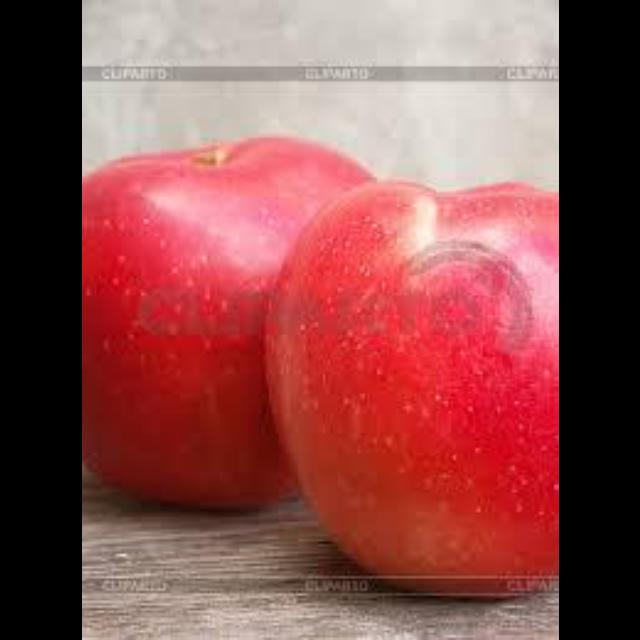apple: (266, 182, 554, 596), (81, 135, 374, 507)
